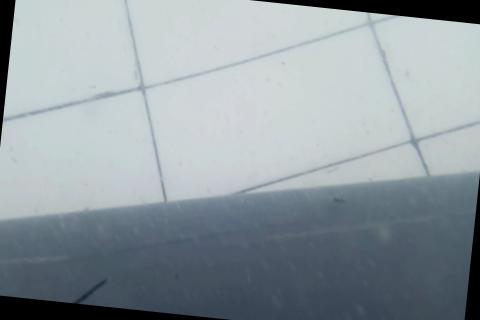keretakan: (40, 270, 108, 307)
